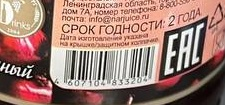1d: (63, 46, 156, 80)
